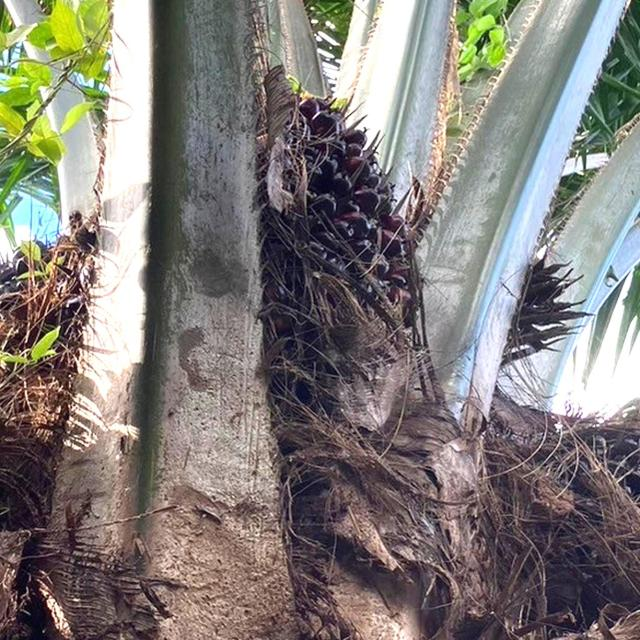ripe: (259, 67, 420, 382)
